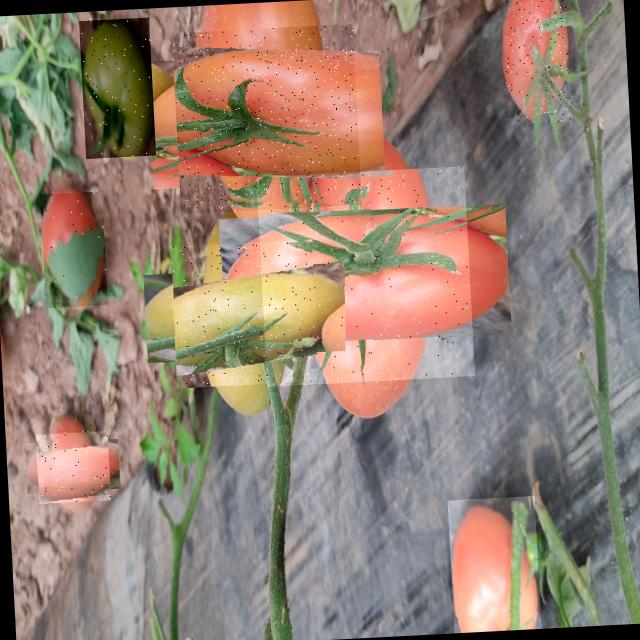Ripe Tomato: (256, 166, 476, 387), (172, 24, 362, 214), (448, 496, 542, 633), (501, 0, 572, 125), (40, 191, 108, 308), (36, 428, 111, 503)
Unripe Tomato: (170, 240, 319, 388), (79, 18, 156, 159)
